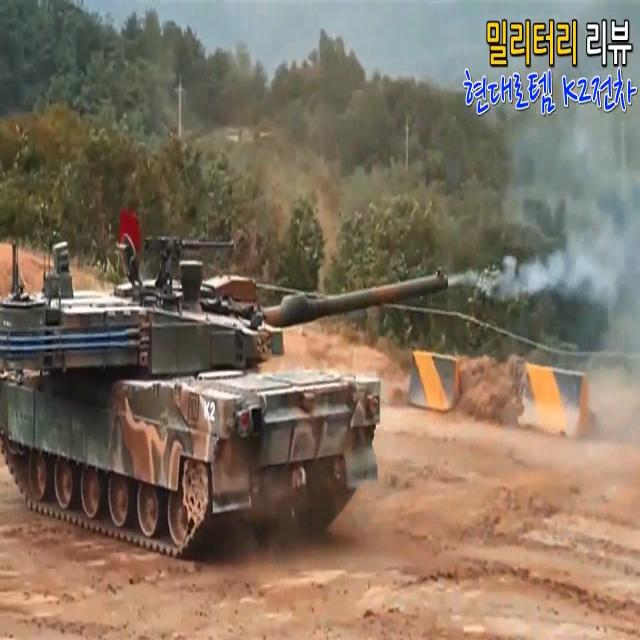korea tank: (0, 233, 448, 555)
